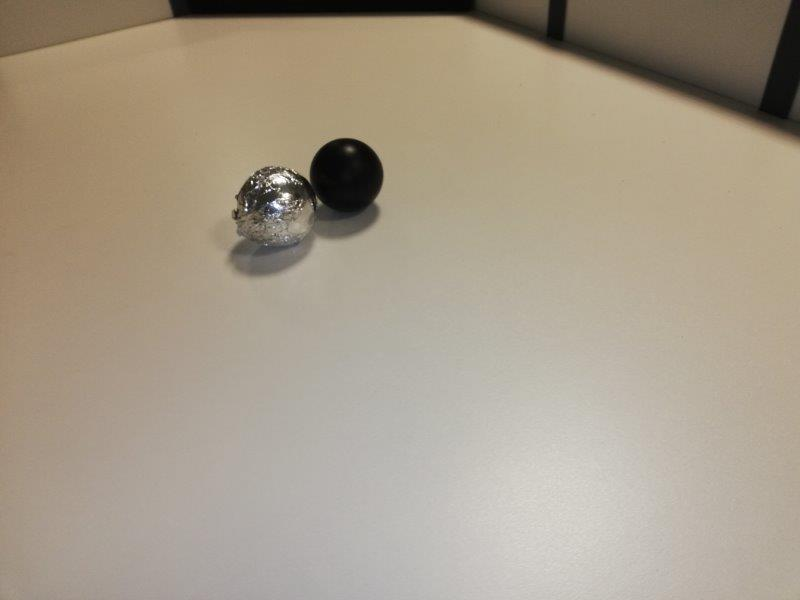bianca: (234, 164, 312, 247)
nera: (311, 138, 388, 212)
